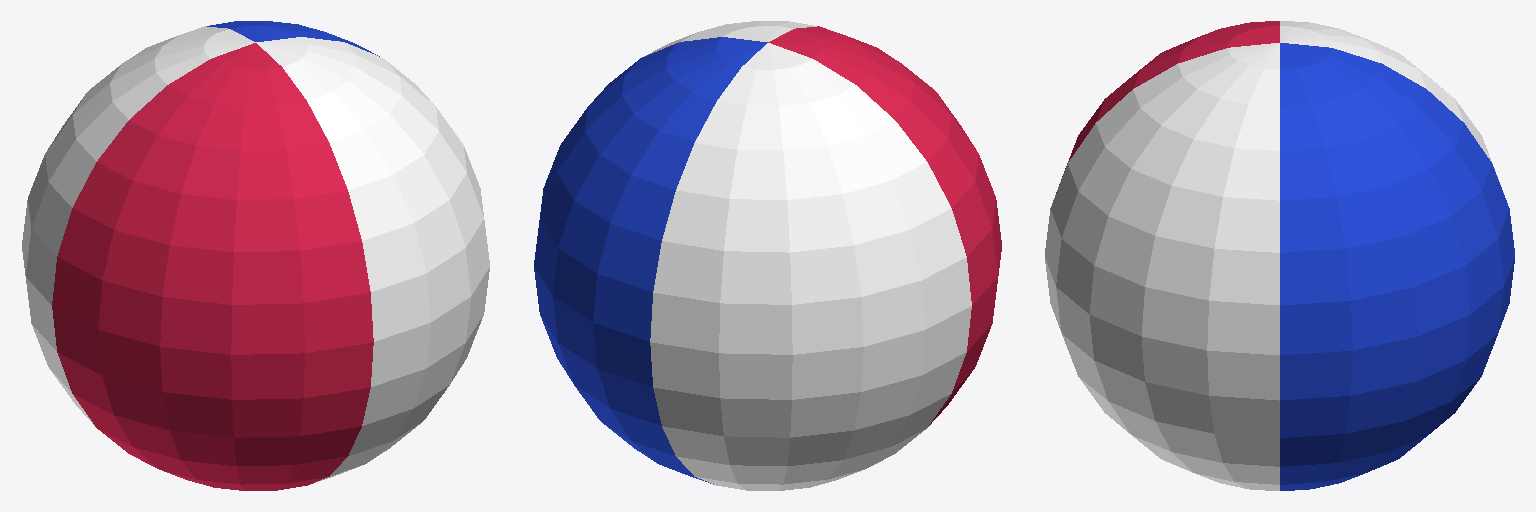
3 views of the same model, side by side, from view 1: azimuth 30°, elevation 25°; view 2: azimuth 150°, elevation 25°; view 3: azimuth 270°, elevation 25° (orthographic).
Parts seen in each view (by area): view 1: Sphere; view 2: Sphere; view 3: Sphere.
Part boxes in pixels (x1,y1,x2,y2): Sphere: (22,21,489,490); Sphere: (534,21,1001,490); Sphere: (1045,21,1514,490).
Size of the model in its own units: 1.58 by 1.58 by 1.58.
1 materials, 1 textured.